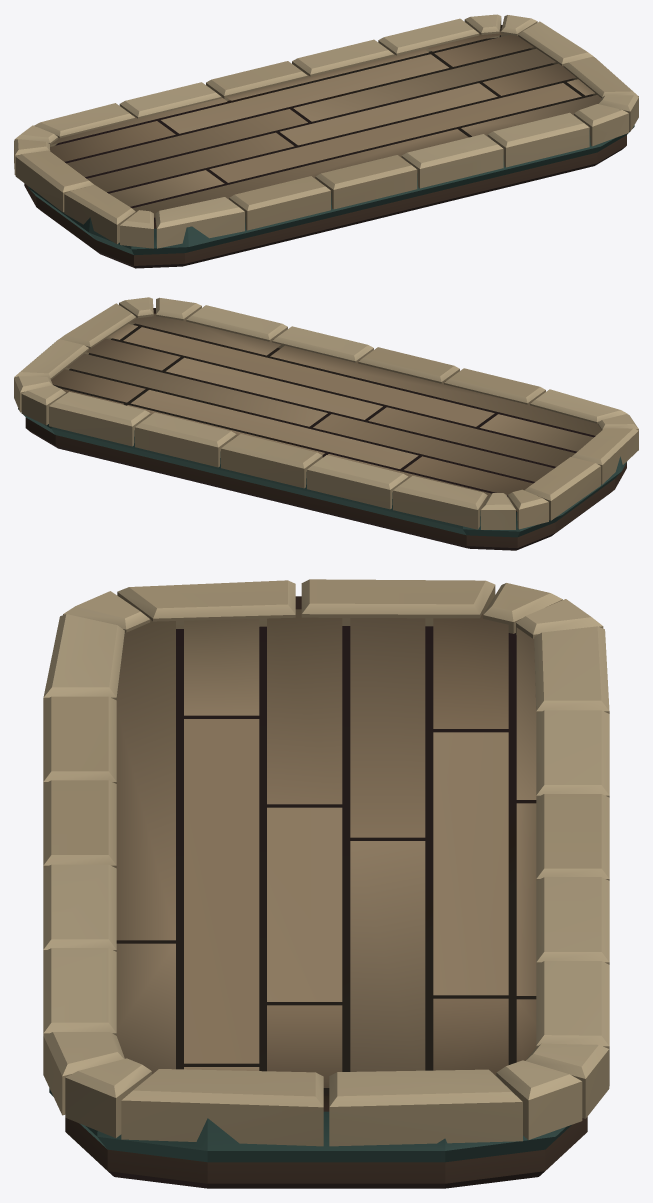
Rendered from radeau_L.glb.
The picture shows the model from 3 angles, top to bottom: view 1: azimuth 30°, elevation 25°; view 2: azimuth 150°, elevation 25°; view 3: azimuth 270°, elevation 25°; orthographic projection. The views are drawn at different scales.
Visible parts, largest first — view 1: radeau_L; view 2: radeau_L; view 3: radeau_L.
Boxes of the visible parts, x1,y1,x2,y2 form: radeau_L: [14, 14, 638, 268]; radeau_L: [14, 297, 638, 550]; radeau_L: [43, 579, 609, 1188].
Size of the model in its own units: 6.26 by 0.7833 by 2.86.
